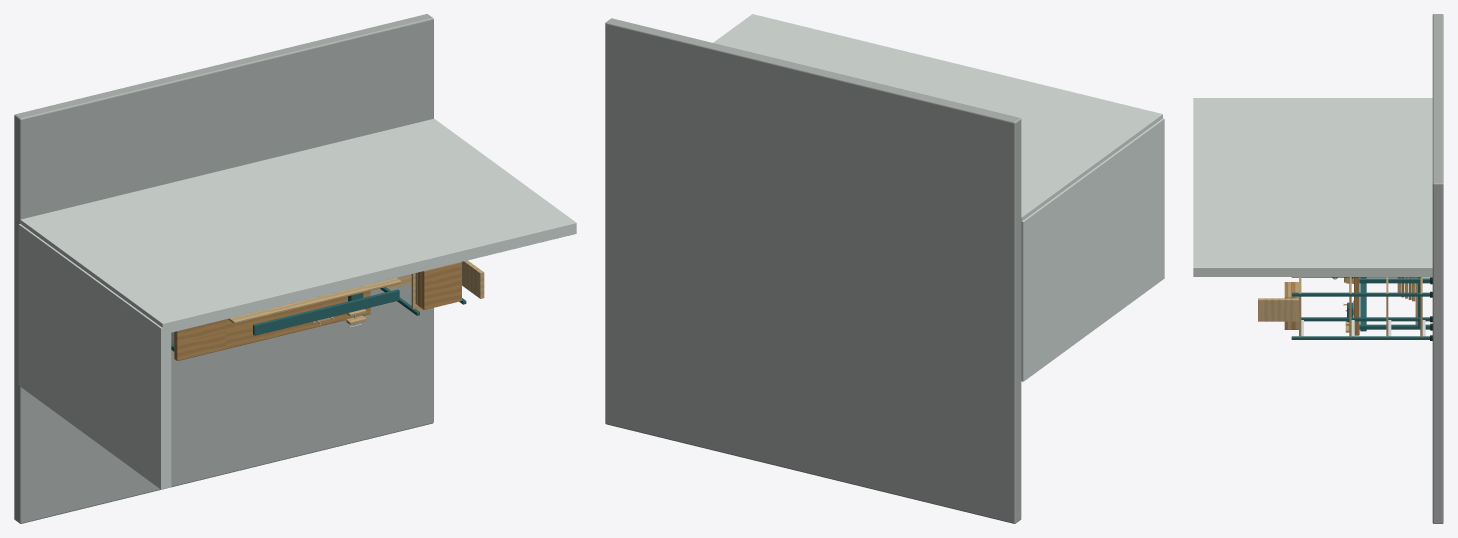
The model's file is environment.glb.
3 renders of one model, left to right at view 1: azimuth 30°, elevation 25°; view 2: azimuth 150°, elevation 25°; view 3: azimuth 270°, elevation 25°, orthographic. The views are drawn at different scales.
Visible parts, largest first — view 1: Workshop stationary surfaces; view 2: Workshop stationary surfaces; view 3: Workshop stationary surfaces.
Boxes of the visible parts, x1,y1,x2,y2 form: Workshop stationary surfaces: [14, 14, 576, 523]; Workshop stationary surfaces: [605, 14, 1164, 523]; Workshop stationary surfaces: [1193, 14, 1443, 523].
Size of the model in its own units: 4.72 by 4.4 by 2.93.
Materials: 12 (3 with a texture image).
